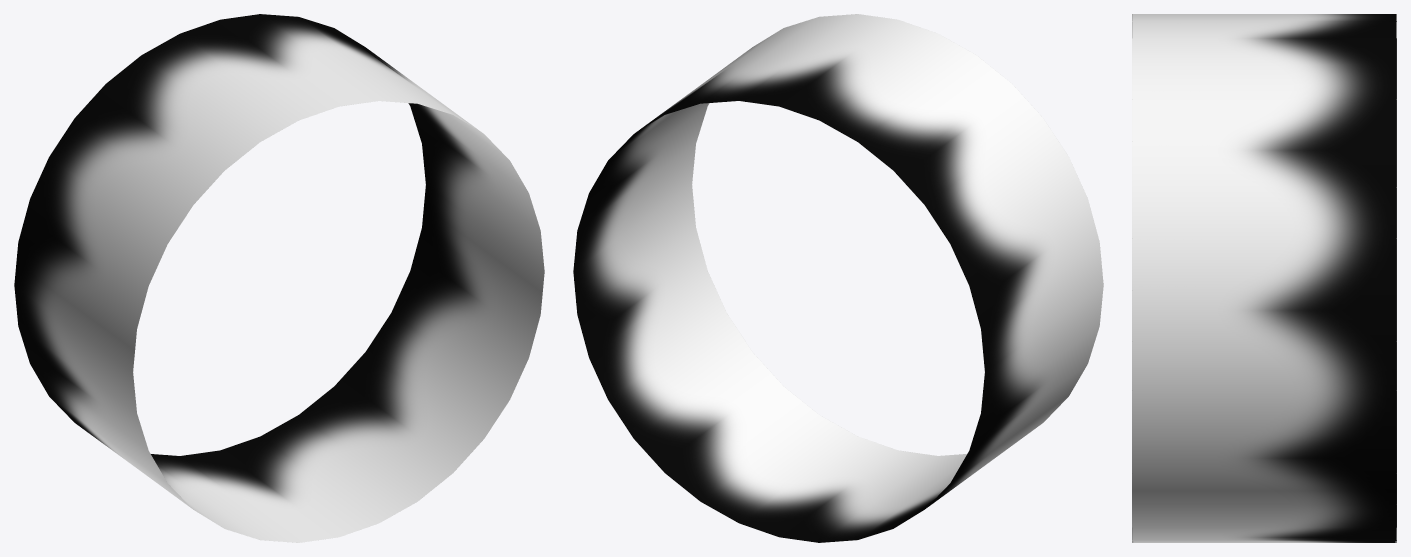
File: TomicCylinder.FBX
3 renders of one model, left to right at view 1: azimuth 30°, elevation 25°; view 2: azimuth 150°, elevation 25°; view 3: azimuth 270°, elevation 25°, orthographic. The views are drawn at different scales.
Parts seen in each view (by area): view 1: OpenCylinderTomic; view 2: OpenCylinderTomic; view 3: OpenCylinderTomic.
Part boxes in pixels (left/top/right/bottom): OpenCylinderTomic: left=14, top=14, right=544, bottom=542; OpenCylinderTomic: left=573, top=14, right=1103, bottom=542; OpenCylinderTomic: left=1132, top=14, right=1396, bottom=542.
Bounding box in the file's own units: 78.74 × 78.74 × 39.37.
